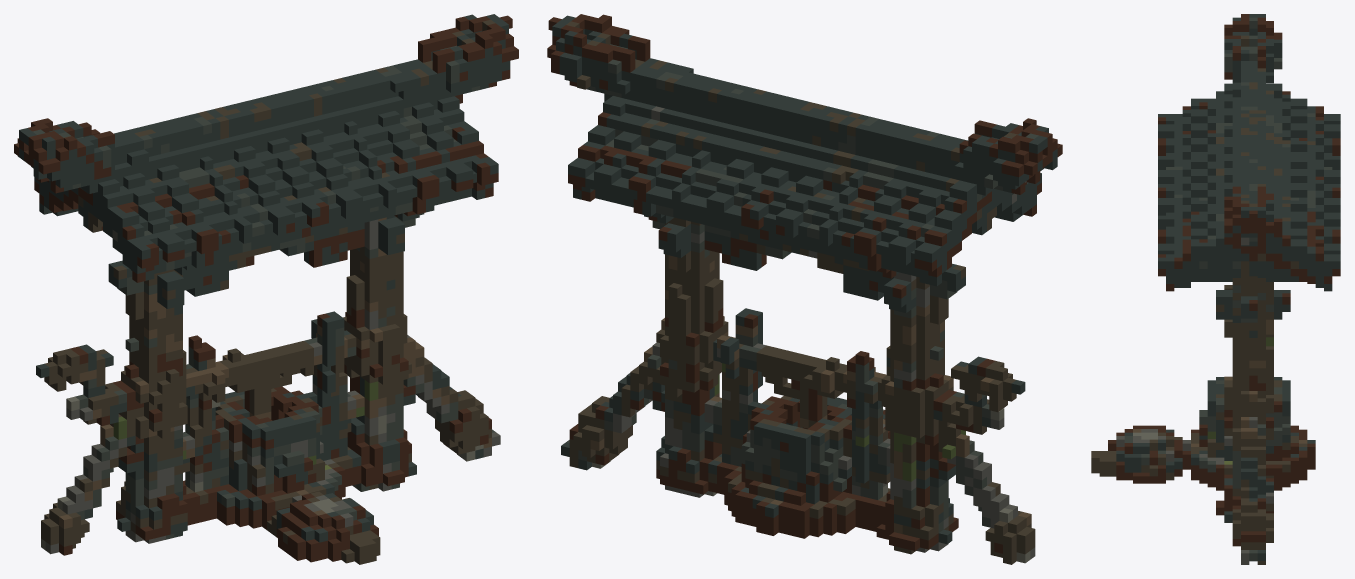
Rendered from asset-f90d71587afd.glb.
3 renders of one model, left to right at view 1: azimuth 30°, elevation 25°; view 2: azimuth 150°, elevation 25°; view 3: azimuth 270°, elevation 25°, orthographic. The views are drawn at different scales.
Parts seen in each view (by area): view 1: 枯井; view 2: 枯井; view 3: 枯井.
Part boxes in pixels (bbox=[...]): 枯井: bbox=[14, 14, 518, 564]; 枯井: bbox=[547, 14, 1062, 564]; 枯井: bbox=[1091, 14, 1340, 564].
Bounding box in the file's own units: 14.25 × 12 × 7.5.
